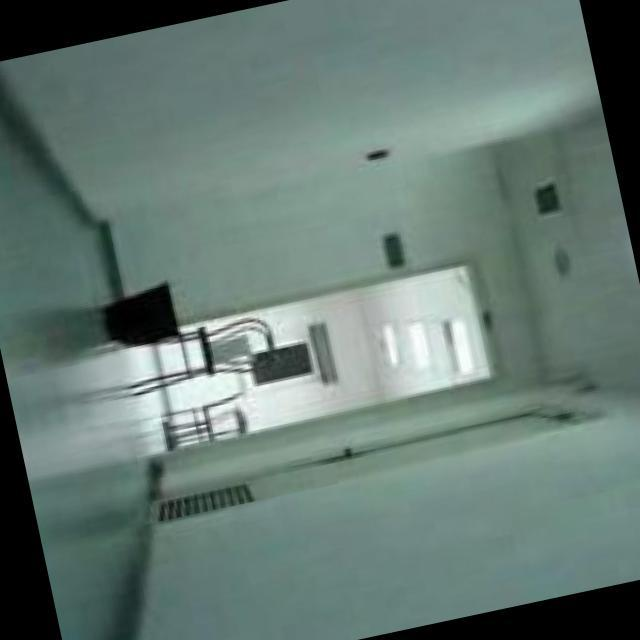Fire: (173, 309, 175, 313)
